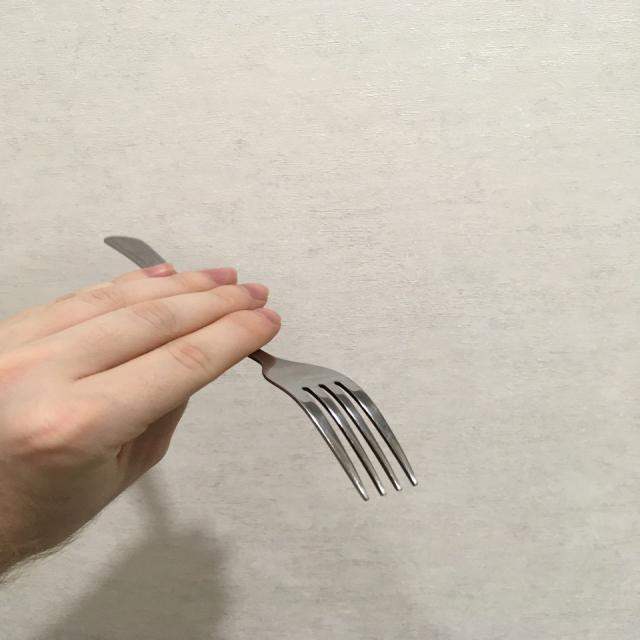fork: (102, 234, 422, 504)
